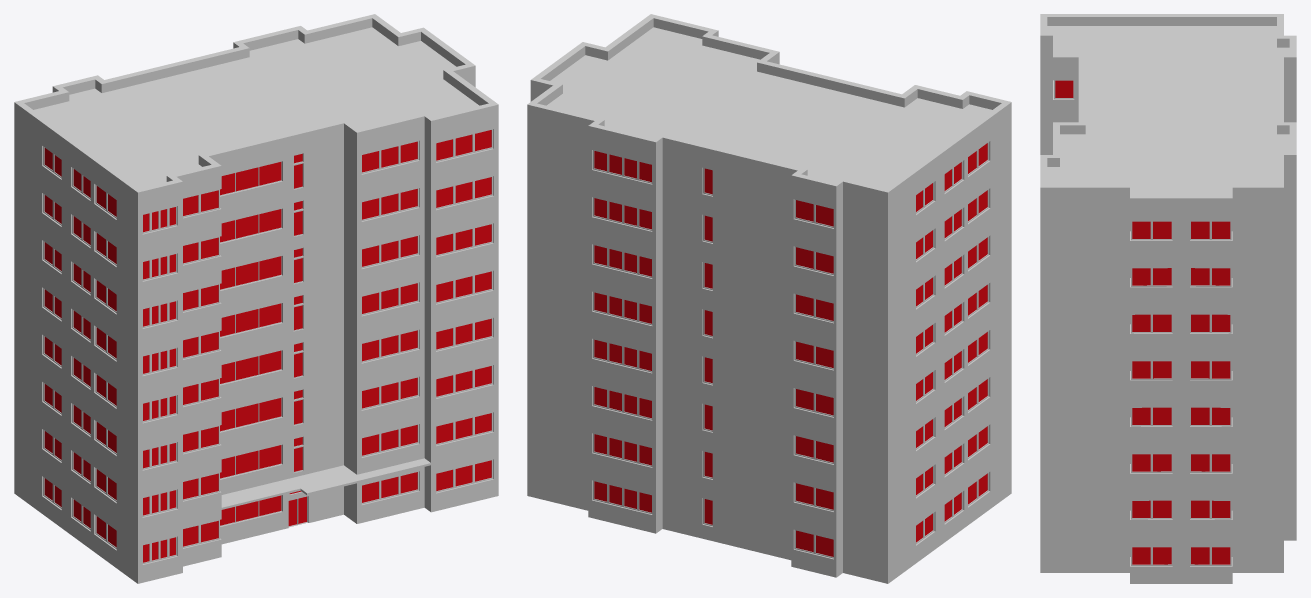
The model's file is SM_House_01.glb.
3 views of the same model, side by side, from view 1: azimuth 30°, elevation 25°; view 2: azimuth 150°, elevation 25°; view 3: azimuth 270°, elevation 25° (orthographic).
Visible parts, largest first — view 1: House_01; view 2: House_01; view 3: House_01.
Part boxes in pixels (x1=…): House_01: x1=14, y1=14, x2=498, y2=583; House_01: x1=527, y1=14, x2=1011, y2=583; House_01: x1=1040, y1=14, x2=1296, y2=583.
Bounding box in the file's own units: 34 × 33.16 × 20.
